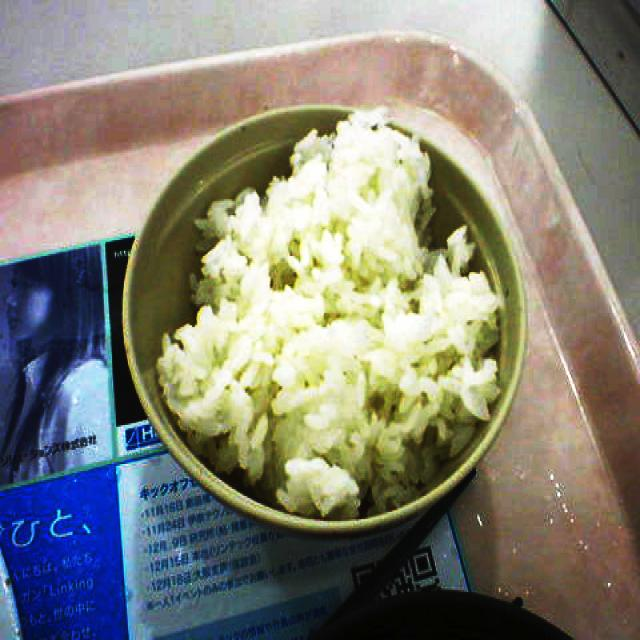rice: (156, 108, 504, 524)
